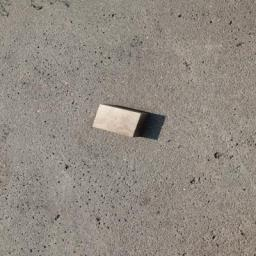FOD: (88, 101, 171, 145)
